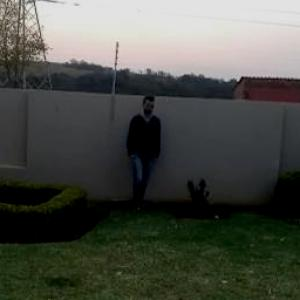follow: (124, 91, 161, 214)
